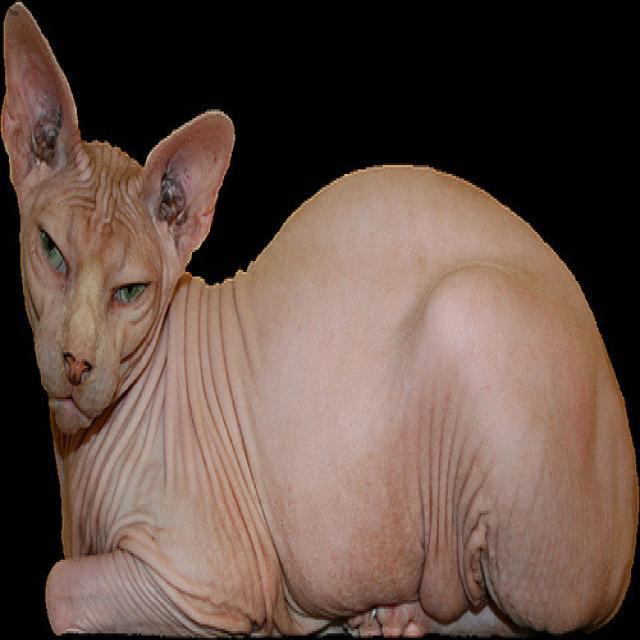Sphynx: (0, 0, 237, 445)
